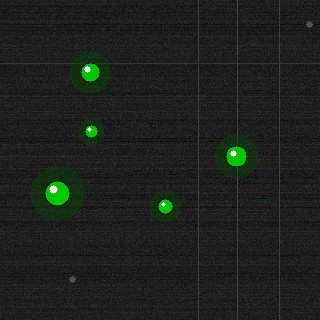green_normal: (43, 179, 71, 207), (224, 144, 248, 168), (79, 61, 101, 83), (156, 197, 174, 215), (83, 123, 99, 139)
